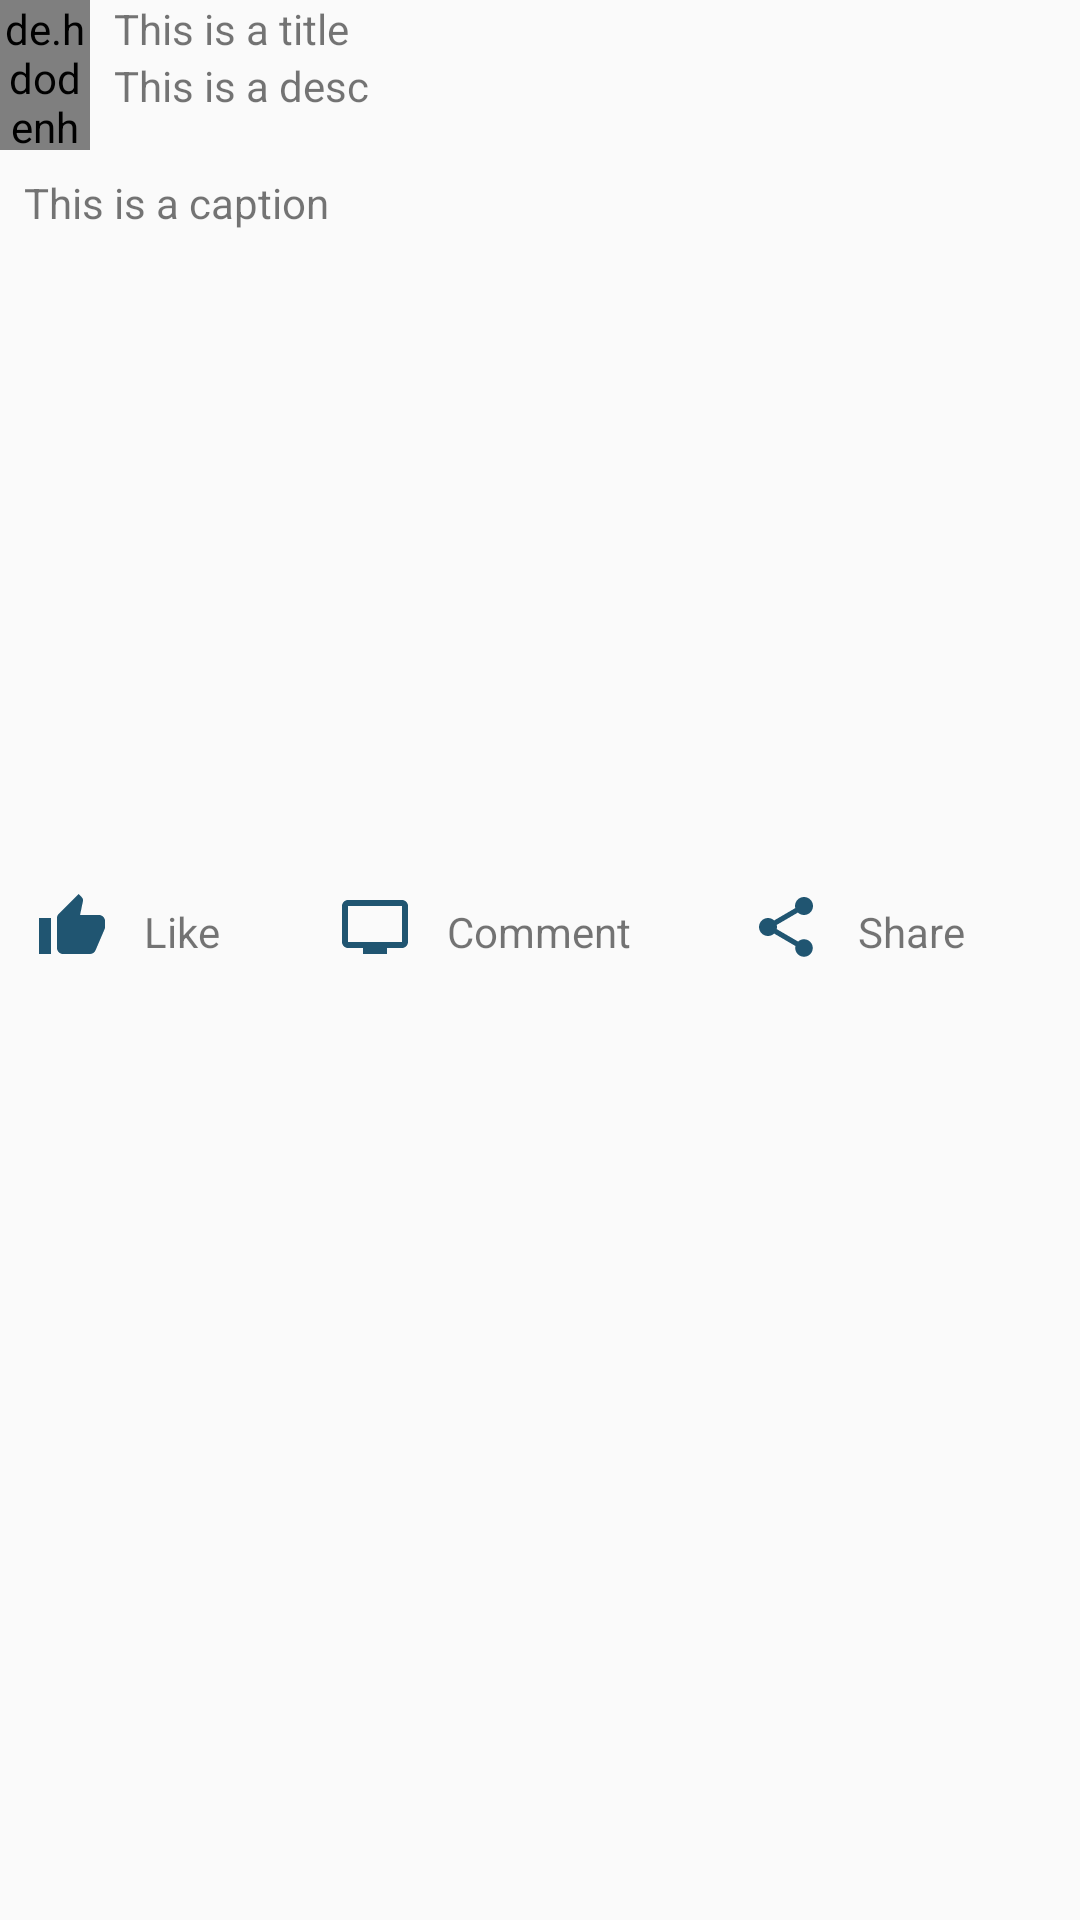

Point at icon controls on the screen. Image size 1080×1920, points as point (x, y).
thumb up: point (72, 924)
